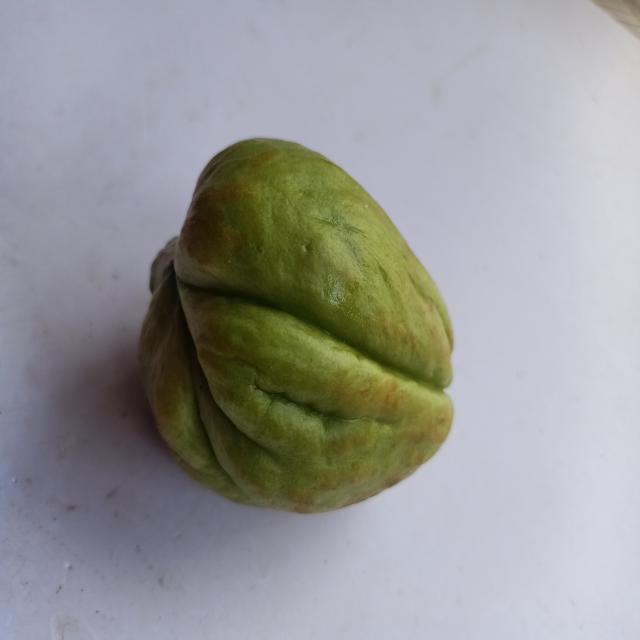Chayote: (117, 102, 483, 538)
